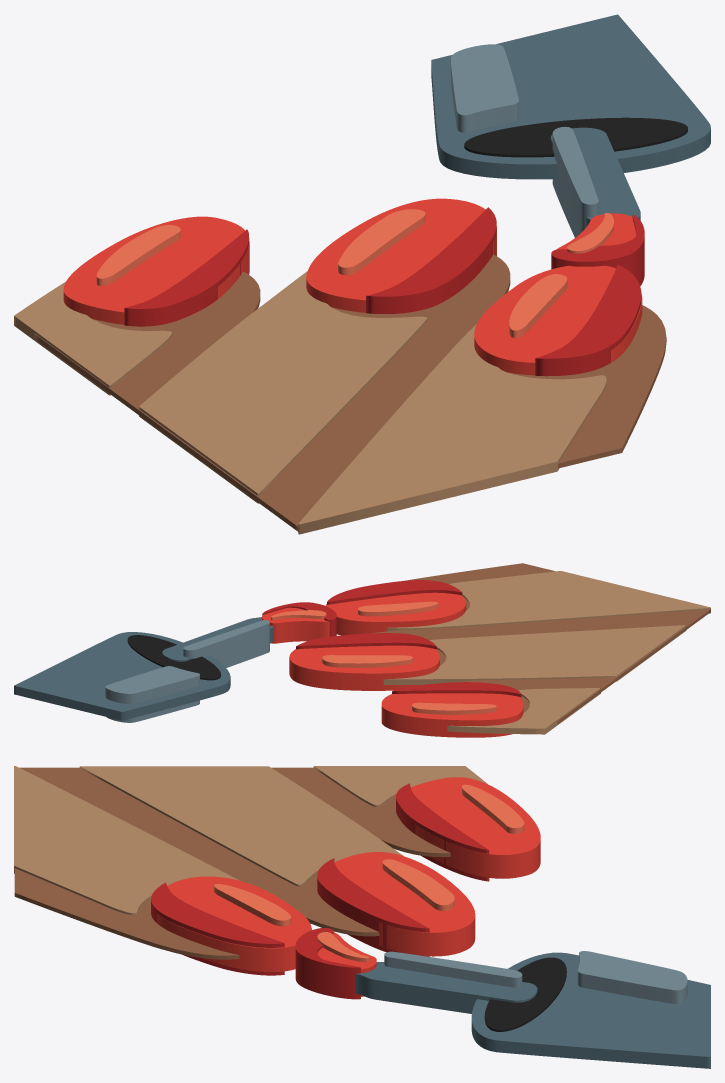
File: emoji_u1f485_1f3fd.glb
3 renders of one model, top to bottom at view 1: azimuth 30°, elevation 25°; view 2: azimuth 150°, elevation 25°; view 3: azimuth 270°, elevation 25°, orthographic. The views are drawn at different scales.
Parts seen in each view (by area): view 1: emoji_u1f485_1f3fd; view 2: emoji_u1f485_1f3fd; view 3: emoji_u1f485_1f3fd.
Part boxes in pixels (left/top/right/bottom): emoji_u1f485_1f3fd: left=14, top=14, right=710, bottom=534; emoji_u1f485_1f3fd: left=14, top=563, right=710, bottom=737; emoji_u1f485_1f3fd: left=14, top=766, right=710, bottom=1068.
Bounding box in the file's own units: 0.0319 × 0.002 × 0.032.
